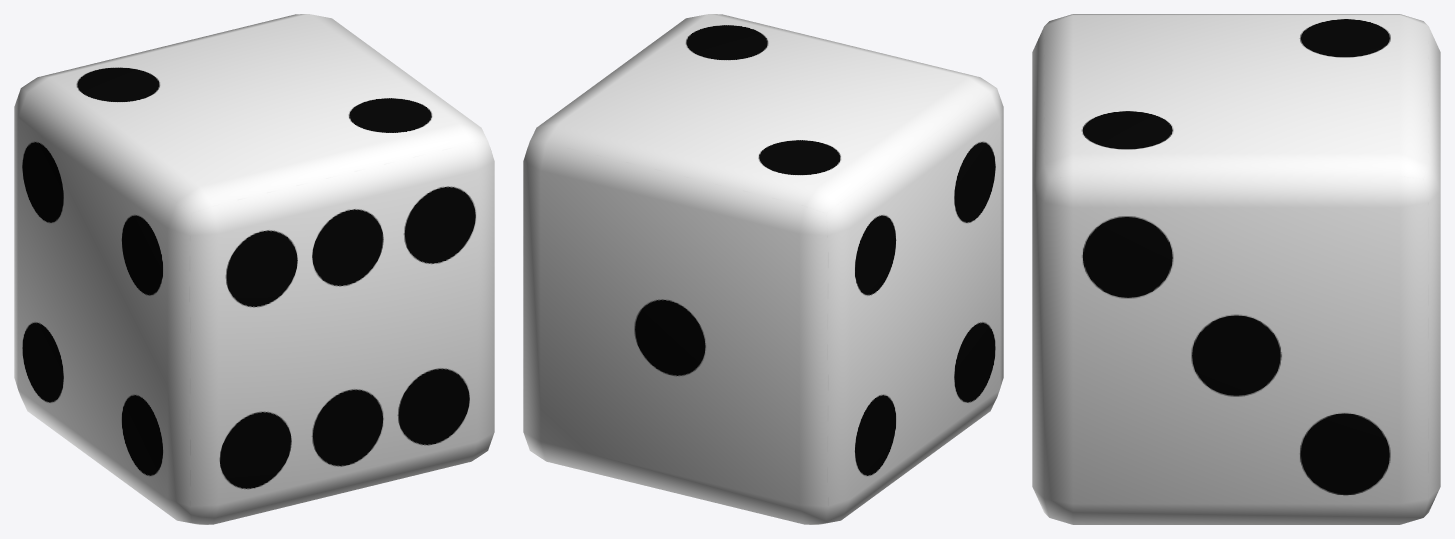
File: die.gltf
3 views of the same model, side by side, from view 1: azimuth 30°, elevation 25°; view 2: azimuth 150°, elevation 25°; view 3: azimuth 270°, elevation 25° (orthographic). The views are drawn at different scales.
Visible parts, largest first — view 1: Dice; view 2: Dice; view 3: Dice.
Part boxes in pixels (x1=…): Dice: x1=14, y1=14, x2=494, y2=524; Dice: x1=523, y1=14, x2=1003, y2=524; Dice: x1=1032, y1=14, x2=1440, y2=524.
Size of the model in its own units: 1 by 1 by 1.
Materials: 1 (1 with a texture image).
